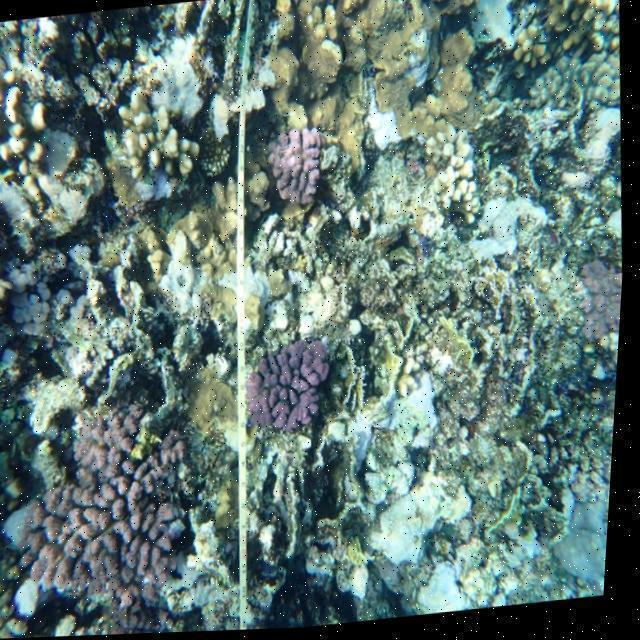Bleached Coral: (354, 455, 498, 574), (408, 116, 494, 239), (463, 180, 559, 281)
Healthy Coral: (33, 423, 195, 599), (235, 348, 343, 431), (269, 126, 331, 206)
